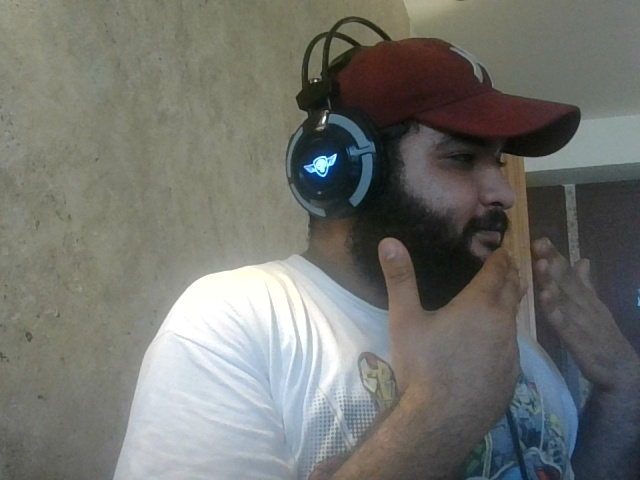thanks: (373, 234, 639, 424)
